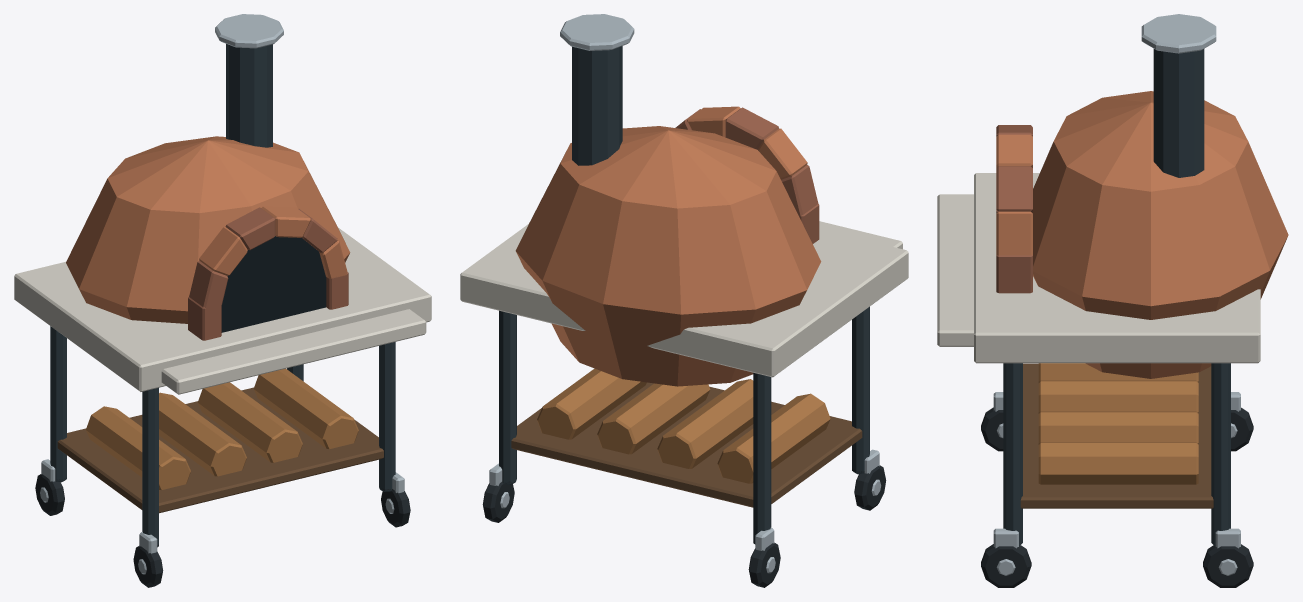
Rendered from b10_wood_fired_pizza_oven_cart.glb.
3 views of the same model, side by side, from view 1: azimuth 30°, elevation 25°; view 2: azimuth 150°, elevation 25°; view 3: azimuth 270°, elevation 25° (orthographic). The views are drawn at different scales.
Visible parts, largest first — view 1: b10_wood_fired_pizza_oven_cart; view 2: b10_wood_fired_pizza_oven_cart; view 3: b10_wood_fired_pizza_oven_cart.
Boxes of the visible parts, <box> form: b10_wood_fired_pizza_oven_cart: <box>14,14,431,587</box>; b10_wood_fired_pizza_oven_cart: <box>460,14,908,587</box>; b10_wood_fired_pizza_oven_cart: <box>937,14,1288,587</box>.
Bounding box in the file's own units: 1.36 × 2.03 × 1.25.
